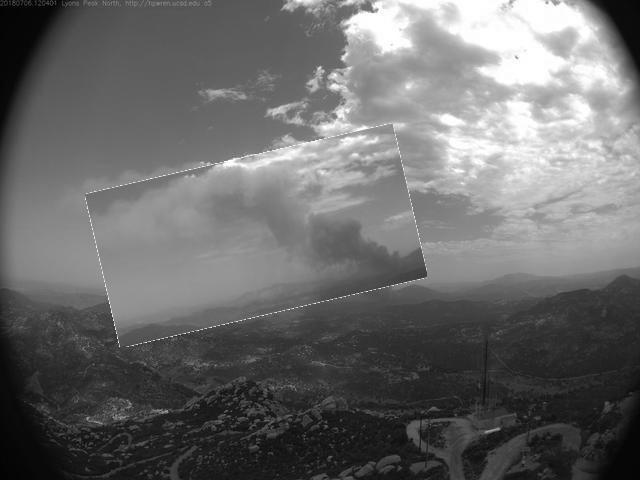smoke: (93, 141, 423, 333)
